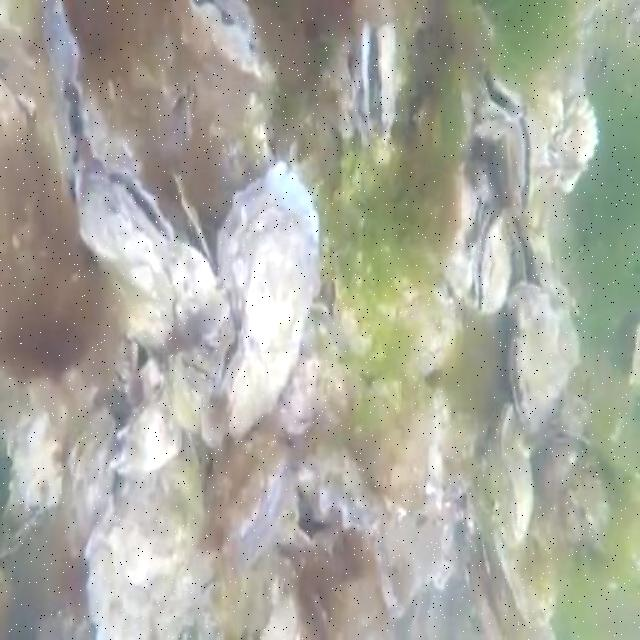Oyster-Closed: (85, 433, 217, 638), (508, 296, 581, 424), (491, 509, 560, 625), (83, 72, 154, 177), (170, 241, 229, 356), (66, 412, 117, 545), (112, 386, 180, 477), (496, 400, 535, 533), (311, 36, 359, 138), (0, 5, 35, 129), (400, 295, 456, 372), (492, 119, 531, 225), (172, 350, 218, 431), (553, 97, 597, 167), (528, 97, 563, 167)
Oyster-Open: (220, 163, 323, 445), (82, 164, 176, 349), (213, 438, 290, 574), (44, 0, 84, 211), (187, 0, 270, 82), (317, 449, 391, 534), (359, 17, 398, 138), (474, 209, 513, 315), (474, 68, 527, 145), (513, 226, 544, 291)
